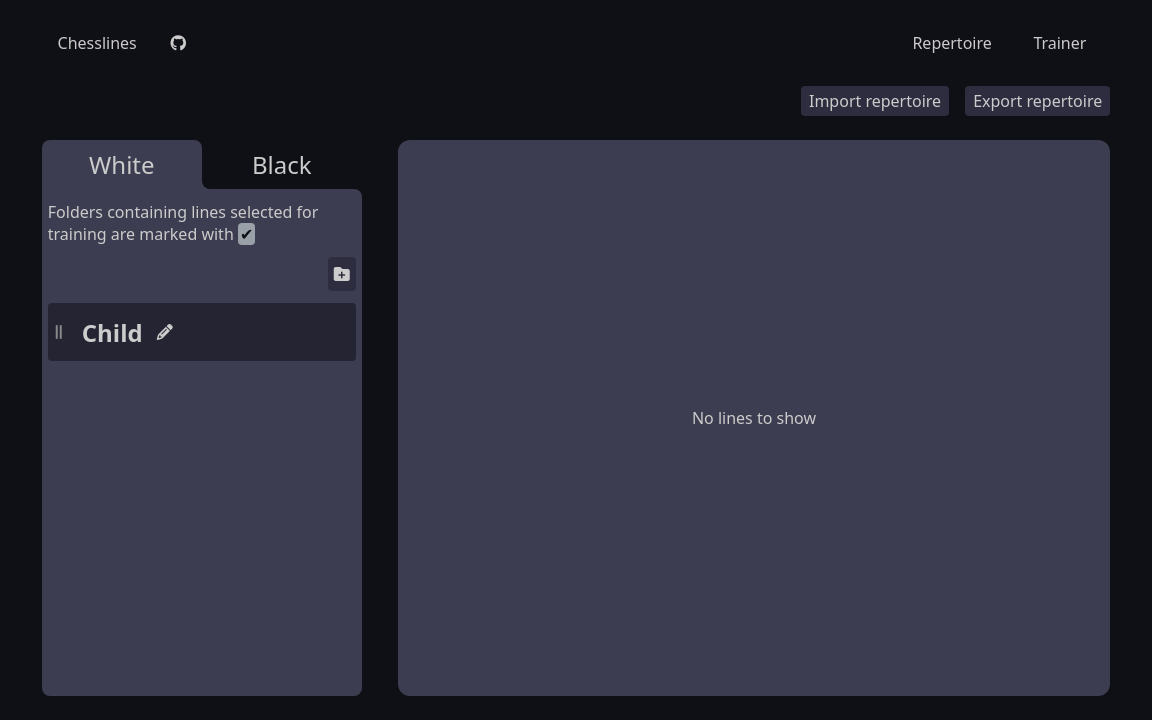
Test: Lines panel › Shows non-standard starting FEN in full
What coordinates should you click on to do the following:
click the button named "open child folder in lines panel"
I would click on:
 (213, 332)
Its box is [70,303,356,361].
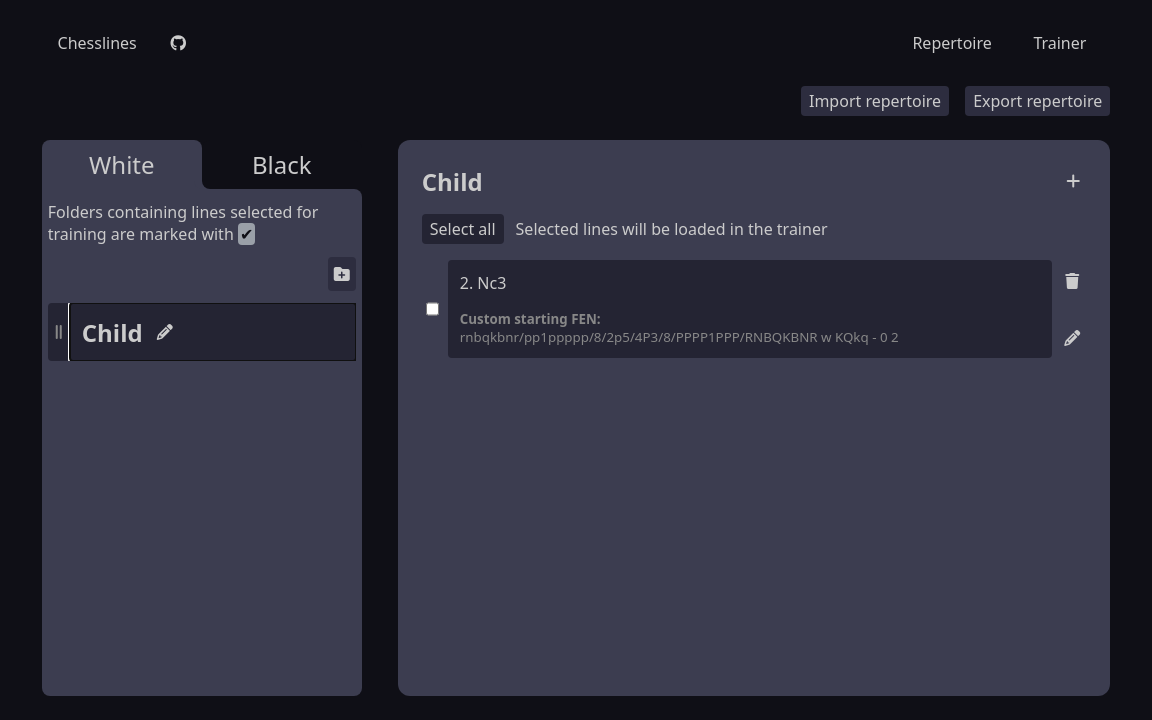
Expected: the text "rnbqkbnr/pp1ppppp/8/2p5/4P3/8/PPPP1PPP/RNBQKBNR w KQkq - 0 2" is shown, [460,328,899,346]
